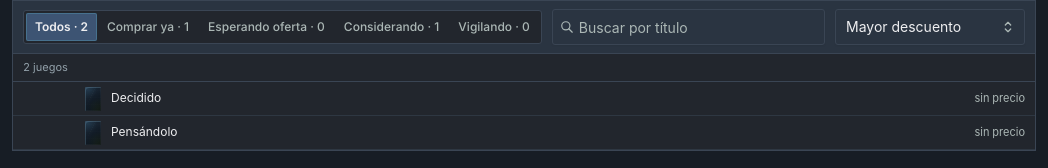
Test case: deseados en lista › filtrar por carril enseña sólo ese carril
Step 1. Click the radio button labelled "Comprar ya · 1" → (148, 26), box top-left (107, 19), bottom-right (189, 34)
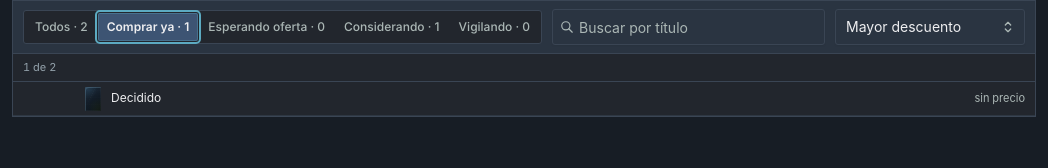
Expected: the button "D Decidido Decidido sin precio" is shown, top-left (13, 82), bottom-right (1035, 116)
Expected: the button "Pensándolo" is gone
